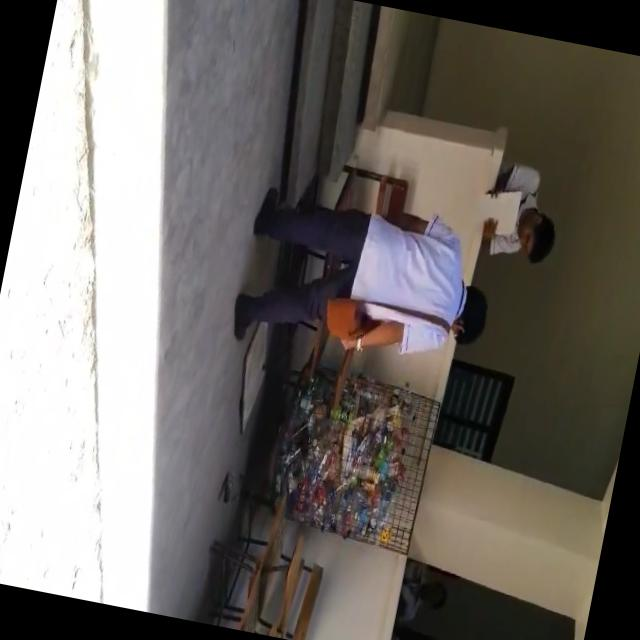Bottle: (218, 472, 235, 504)
